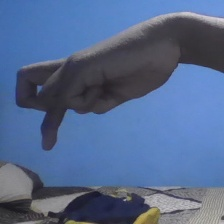P: (12, 8, 188, 153)
